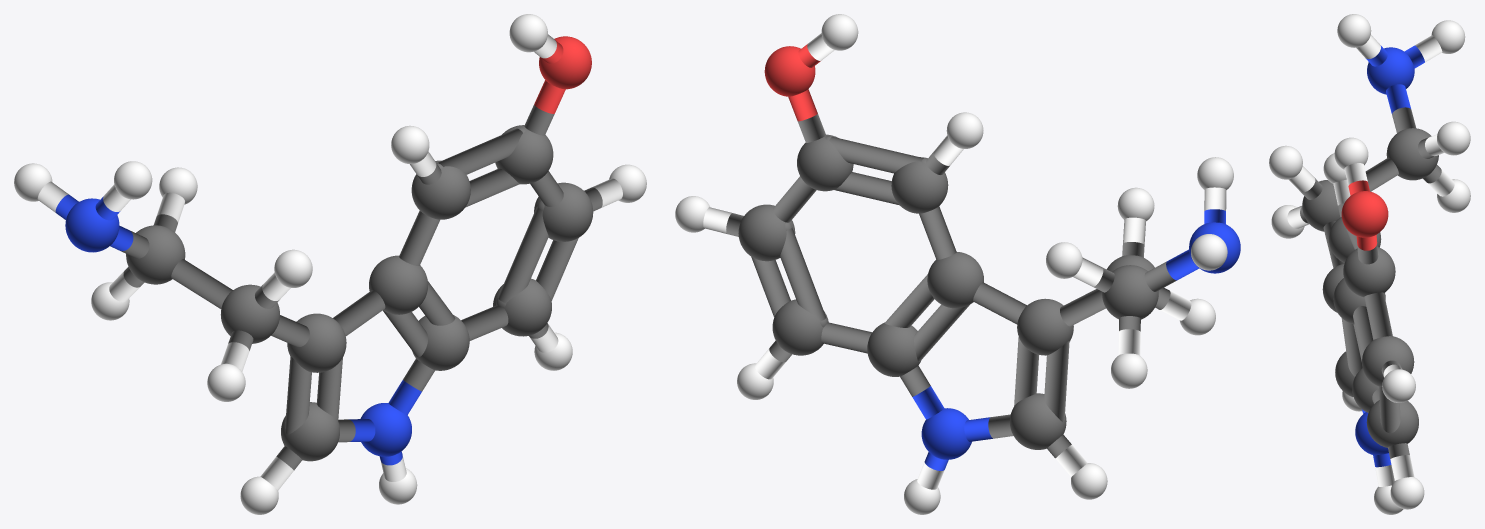
The model's file is serotonin.glb.
3 renders of one model, left to right at view 1: azimuth 30°, elevation 25°; view 2: azimuth 150°, elevation 25°; view 3: azimuth 270°, elevation 25°, orthographic. The views are drawn at different scales.
Visible parts, largest first — view 1: serotonin; view 2: serotonin; view 3: serotonin.
Part boxes in pixels (x1,y1,x2,y2): serotonin: (14, 14, 646, 514); serotonin: (675, 14, 1240, 514); serotonin: (1269, 14, 1470, 514).
Size of the model in its own units: 9.13 by 6.94 by 3.01.
